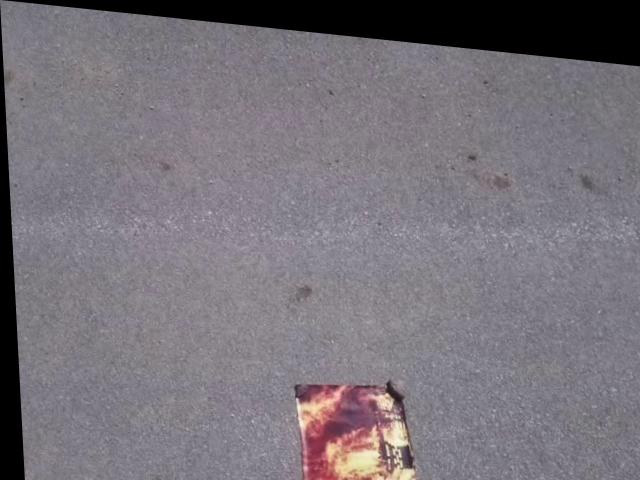fire-poster: (287, 362, 423, 480)
